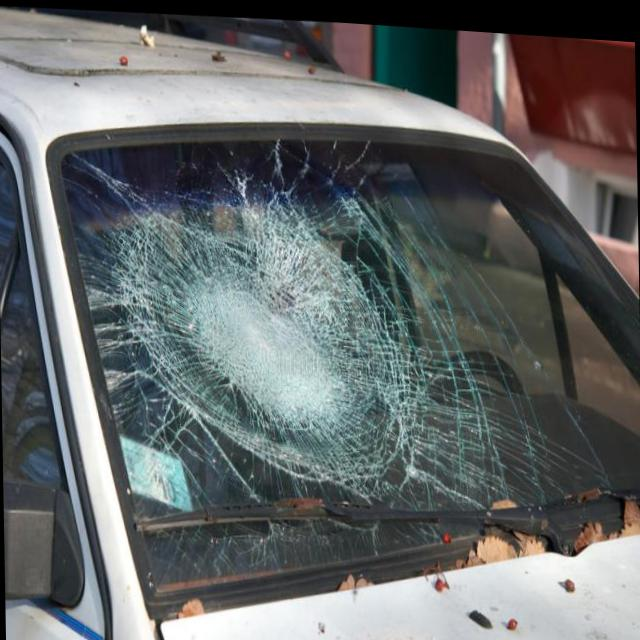Glass_Break: (64, 119, 586, 587)
